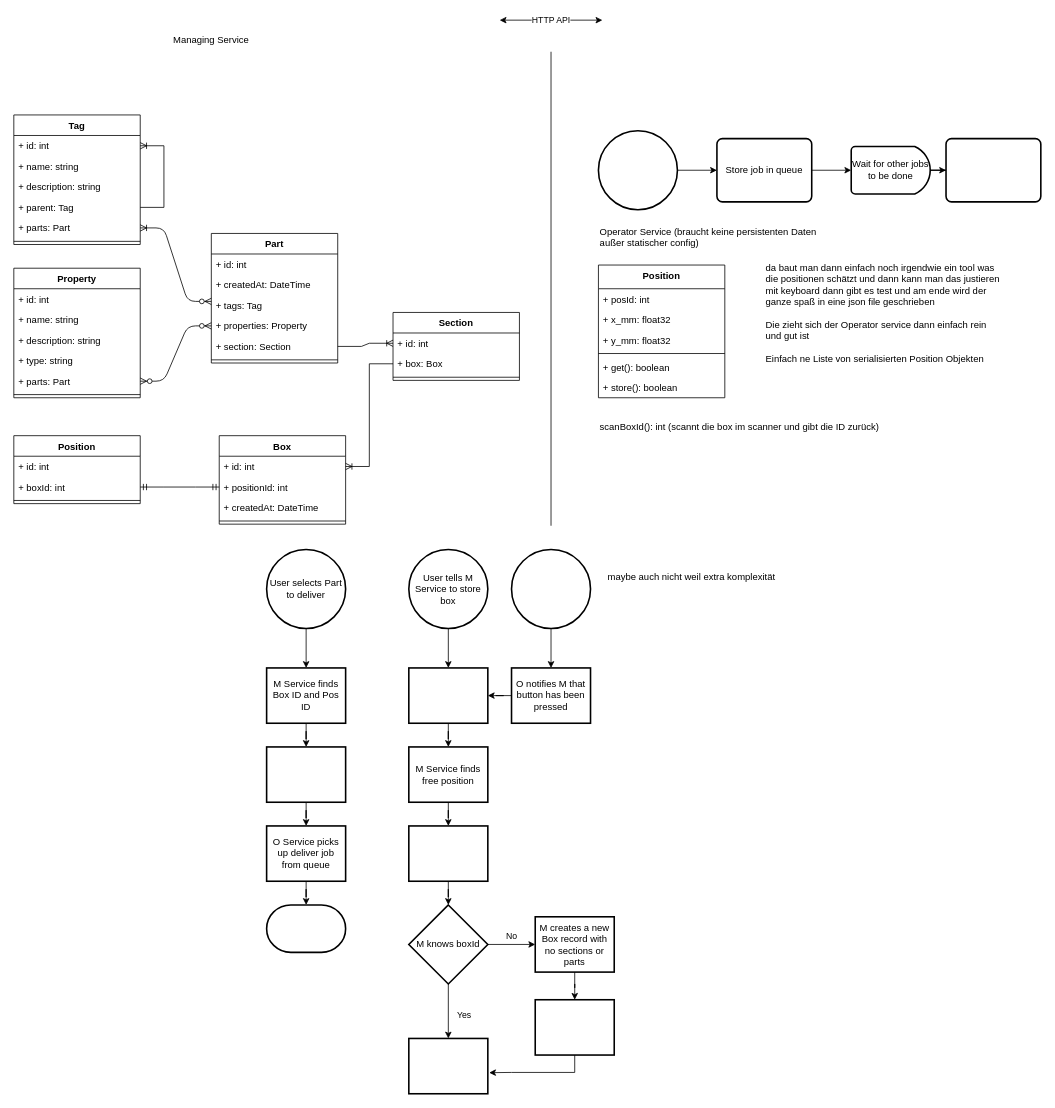
This 1055x1108 diagram has some shape labels left out. Each missing label, with the centre of its shape:
"deliver or store request comes in" belongs at point (637, 170).
"Execute job" belongs at point (993, 169).
"M notifies user that box is not known yet" belongs at point (574, 1027).
"M Service asks O Service for boxId" belongs at point (448, 695).
"M Service asks O Service to deliver box by posId" belongs at point (305, 774).
"M stores the position of the box" belongs at point (448, 1065).
"M tells O to store box at found posId" belongs at point (448, 853).
"Part is delivered" belongs at point (305, 928).
"User presses button (O Service)" belongs at point (550, 588).
